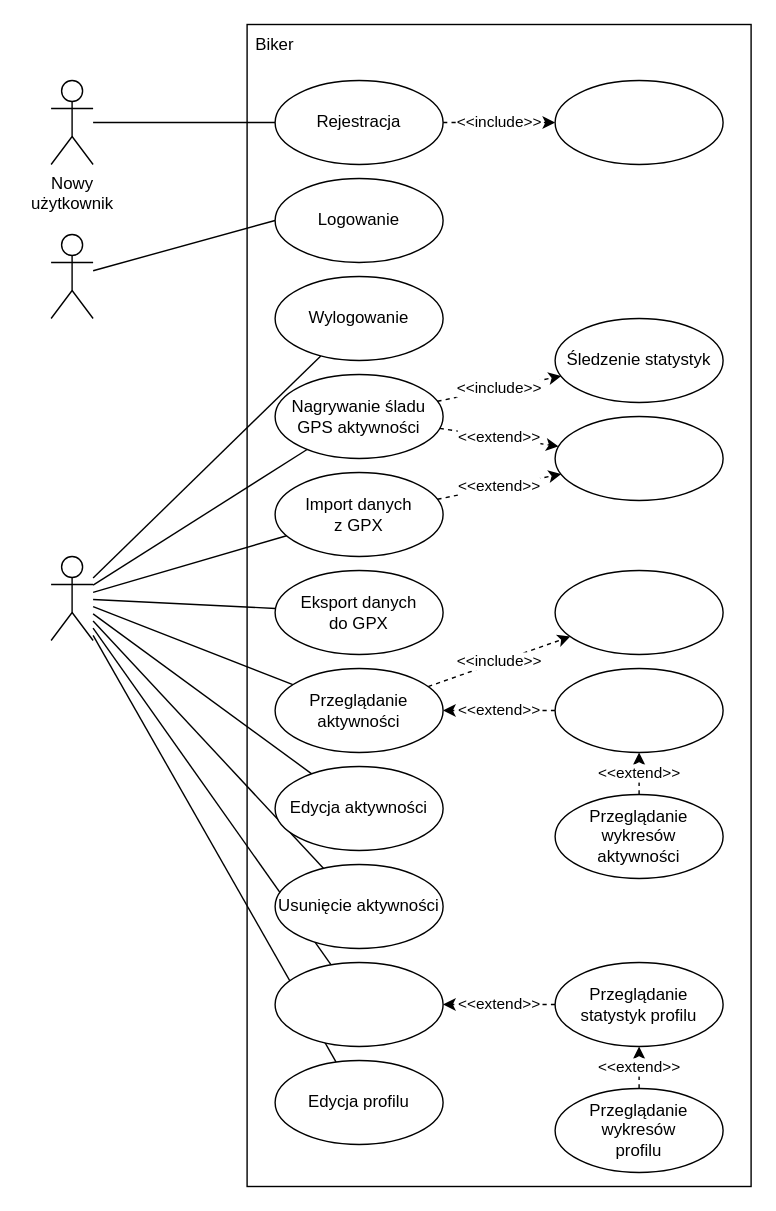
This 776x1211 diagram has some shape labels left out. The centre of each missing label's shape, as x and y in pixels:
"Dodanie aktywności" goes at (x=638, y=457).
"Powracający użytkownik" goes at (x=71, y=275).
"Przeglądanie profilu" goes at (x=358, y=1003).
"Przeglądanie statystyk aktywności" goes at (x=638, y=709).
"Utworzenie profilu" goes at (x=638, y=121).
"Wyświetlenie śladu GPS na mapie" goes at (x=638, y=611).
"Zalogowany użytkownik" goes at (x=71, y=597).
